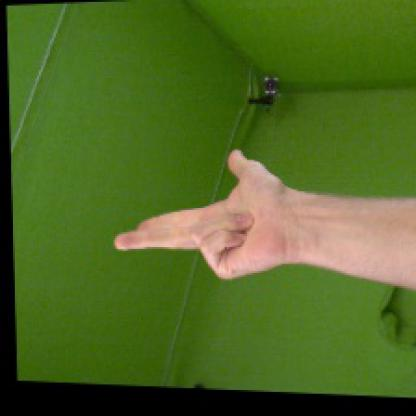Hand: (113, 149, 301, 281)
